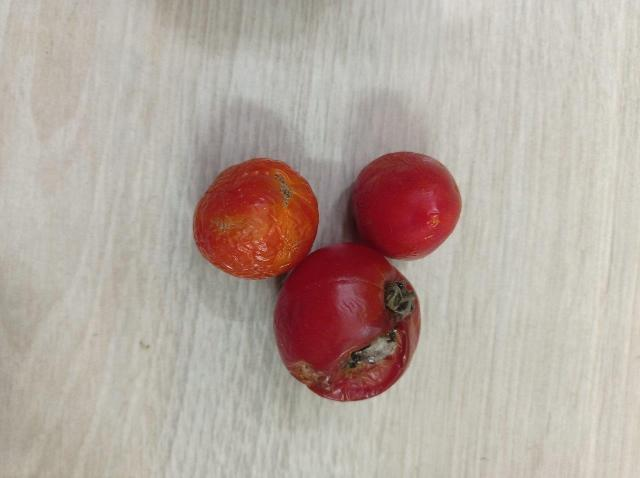defect: (271, 243, 424, 406), (191, 156, 320, 282)
